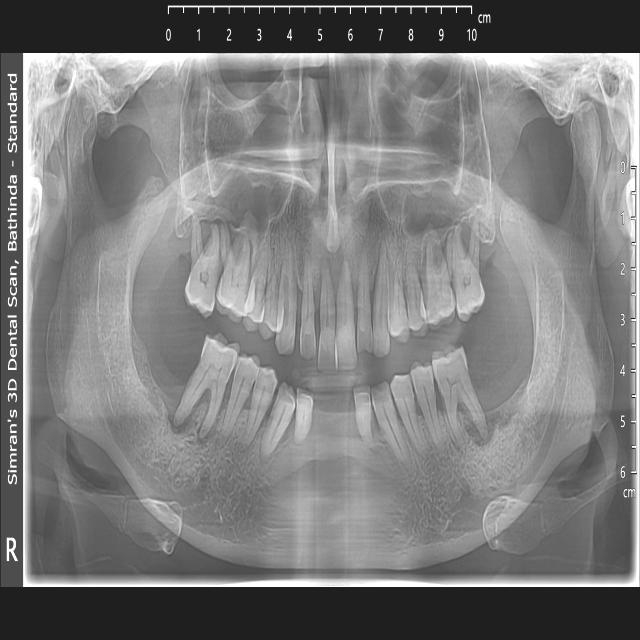Mandibular Canal: (446, 270, 576, 535), (87, 259, 208, 503)
Missing teeth: (153, 325, 207, 404), (467, 336, 509, 412), (312, 392, 356, 422)
Periapical lesion: (167, 384, 197, 443), (462, 408, 499, 455), (371, 230, 390, 292), (194, 408, 221, 449), (316, 254, 334, 279)
maxillary sinus: (177, 50, 303, 254), (376, 50, 491, 242)
